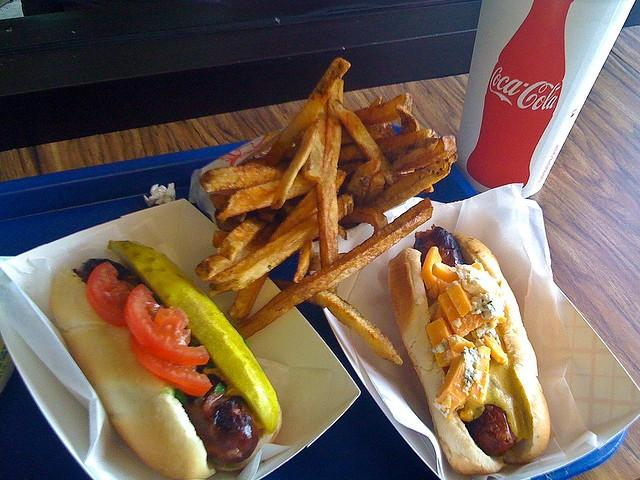tomato: (125, 284, 210, 366), (130, 336, 212, 396), (88, 260, 134, 328)
